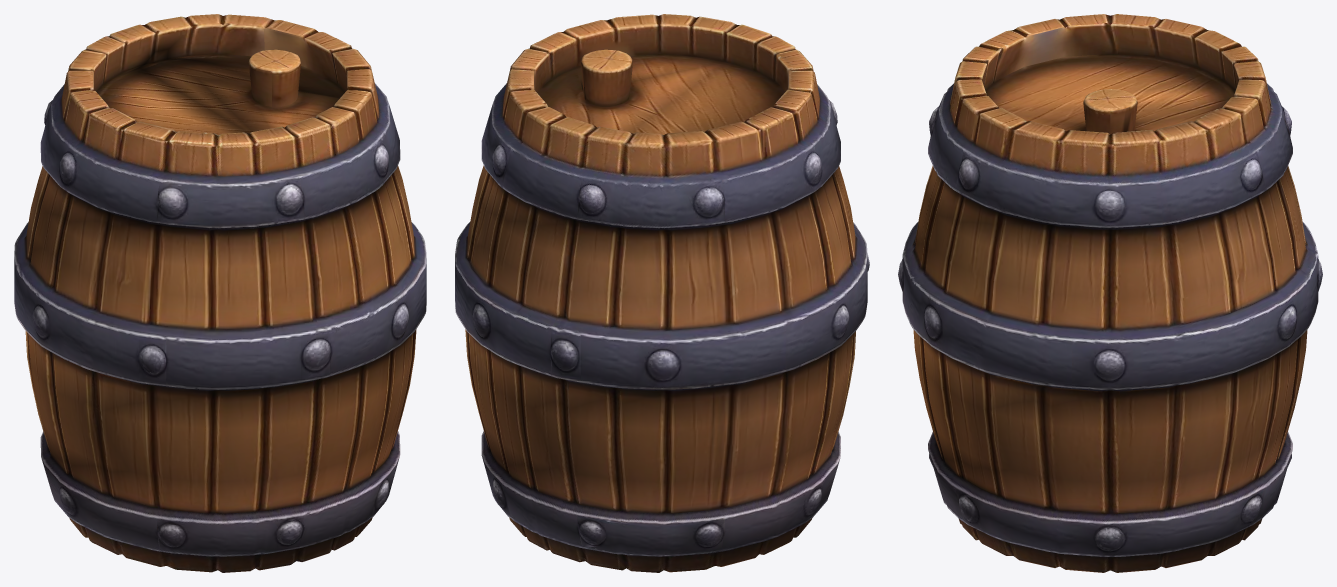
The model's file is castle-barrel.glb.
The picture shows the model from 3 angles, left to right: view 1: azimuth 30°, elevation 25°; view 2: azimuth 150°, elevation 25°; view 3: azimuth 270°, elevation 25°; orthographic projection.
Visible parts, largest first — view 1: mesh_rep_0_ori_repair; view 2: mesh_rep_0_ori_repair; view 3: mesh_rep_0_ori_repair.
Part boxes in pixels (x1,y1,x2,y2): mesh_rep_0_ori_repair: [14, 14, 426, 572]; mesh_rep_0_ori_repair: [455, 14, 869, 572]; mesh_rep_0_ori_repair: [898, 14, 1322, 572].
Bounding box in the file's own units: 0.8988 × 1.01 × 0.8949.
Materials: 1 (1 with a texture image).
